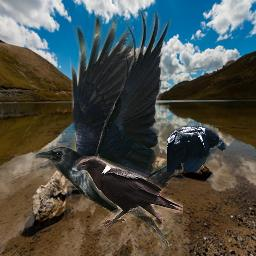Crow: (33, 7, 205, 255), (75, 156, 183, 232), (167, 126, 226, 172)
